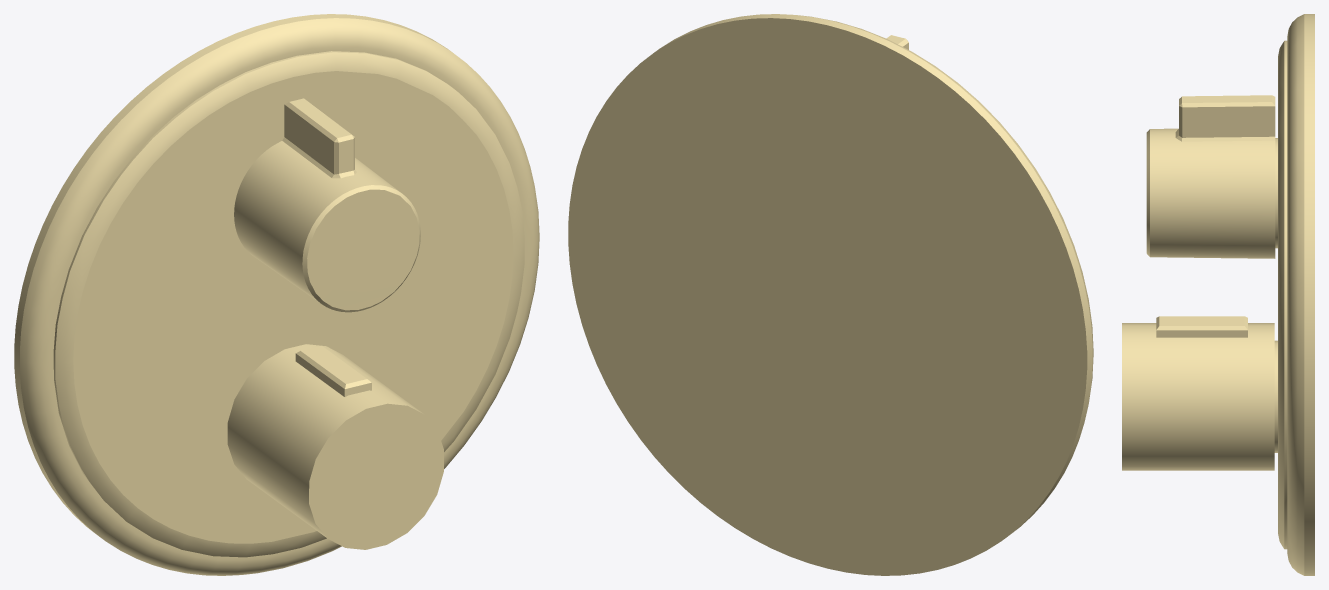
3 renders of one model, left to right at view 1: azimuth 30°, elevation 25°; view 2: azimuth 150°, elevation 25°; view 3: azimuth 270°, elevation 25°, orthographic. The views are drawn at different scales.
Parts seen in each view (by area): view 1: L_0b528599_30da_4b89_90bc_9809ec2fc37a_I1, L_fb32d448_c480_47a2_ac0a_bbca4ca6d439_I6, L_d5e6d2bc_0a0b_437f_b6e4_acb8e121776f_I5, L_318b4798_47d0_4ca1_ab17_fd60b03ba60b_I2; view 2: L_0b528599_30da_4b89_90bc_9809ec2fc37a_I1; view 3: L_fb32d448_c480_47a2_ac0a_bbca4ca6d439_I6, L_d5e6d2bc_0a0b_437f_b6e4_acb8e121776f_I5, L_0b528599_30da_4b89_90bc_9809ec2fc37a_I1, L_318b4798_47d0_4ca1_ab17_fd60b03ba60b_I2, L_4ba1177e_4ff5_4e43_a85a_0f0dad230ea2_I3, L_941ab5fb_d405_4643_8e9b_3a85df6b3cd1_I4.
Boxes of the visible parts, left/top/right/bottom form: L_0b528599_30da_4b89_90bc_9809ec2fc37a_I1: left=14, top=14, right=539, bottom=575; L_fb32d448_c480_47a2_ac0a_bbca4ca6d439_I6: left=227, top=344, right=443, bottom=549; L_d5e6d2bc_0a0b_437f_b6e4_acb8e121776f_I5: left=234, top=98, right=420, bottom=312; L_318b4798_47d0_4ca1_ab17_fd60b03ba60b_I2: left=295, top=345, right=371, bottom=396; L_0b528599_30da_4b89_90bc_9809ec2fc37a_I1: left=568, top=14, right=1093, bottom=575; L_fb32d448_c480_47a2_ac0a_bbca4ca6d439_I6: left=1122, top=323, right=1274, bottom=470; L_d5e6d2bc_0a0b_437f_b6e4_acb8e121776f_I5: left=1146, top=95, right=1275, bottom=258; L_0b528599_30da_4b89_90bc_9809ec2fc37a_I1: left=1278, top=14, right=1314, bottom=575; L_318b4798_47d0_4ca1_ab17_fd60b03ba60b_I2: left=1156, top=316, right=1247, bottom=337; L_4ba1177e_4ff5_4e43_a85a_0f0dad230ea2_I3: left=1274, top=340, right=1277, bottom=452; L_941ab5fb_d405_4643_8e9b_3a85df6b3cd1_I4: left=1275, top=138, right=1277, bottom=248.
Bounding box in the file's own units: 0.1749 × 0.175 × 0.06.
